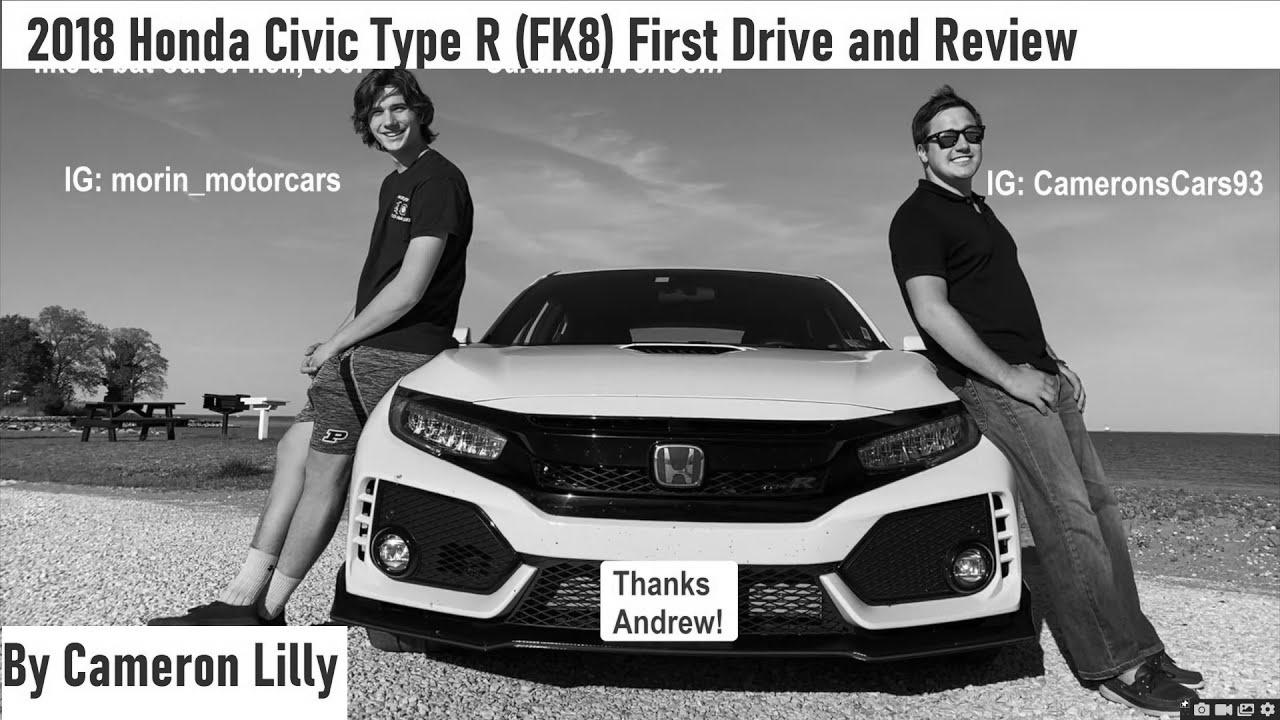Car hood: (397, 339, 974, 425)
Front bumper: (333, 436, 1036, 680)
Headlight - -L-: (854, 399, 979, 480)
Headlight - -R-: (393, 388, 511, 472)
